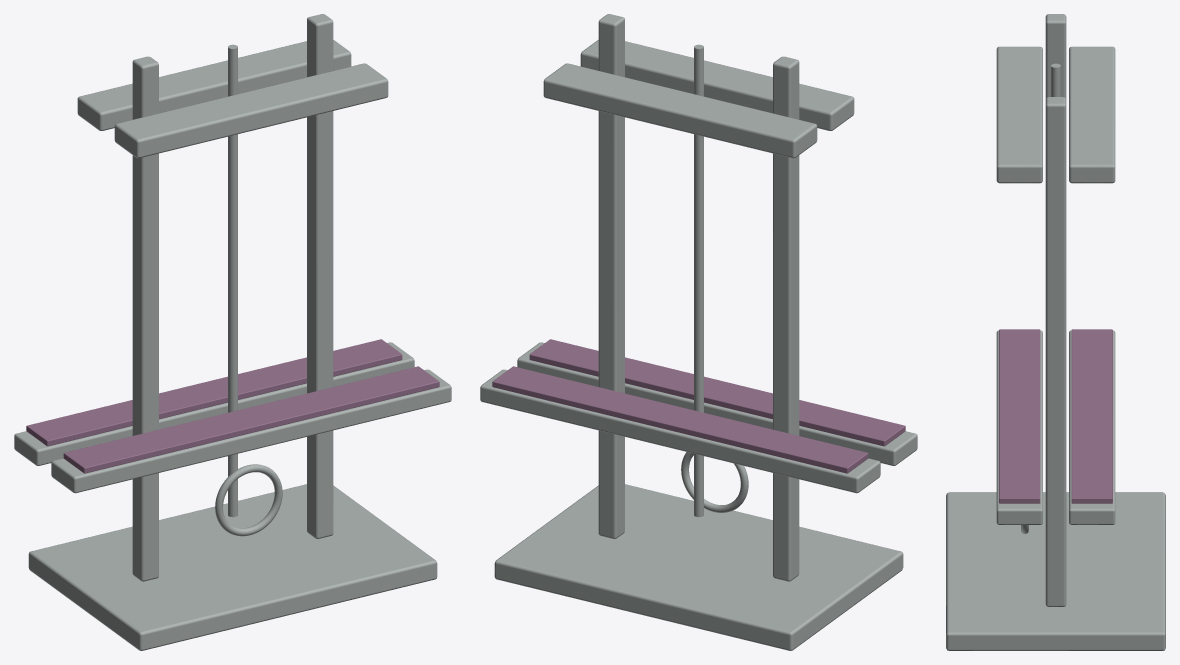
The model's file is museum-conservation-and-art-restoration-museum-conserv-62bc085f__31885.glb.
3 views of the same model, side by side, from view 1: azimuth 30°, elevation 25°; view 2: azimuth 150°, elevation 25°; view 3: azimuth 270°, elevation 25° (orthographic). The views are drawn at different scales.
Parts seen in each view (by area): view 1: museum-conservation-and-art-restoration-double-sided-examina (×2); view 2: museum-conservation-and-art-restoration-double-sided-examina (×2); view 3: museum-conservation-and-art-restoration-double-sided-examina (×2).
Boxes of the visible parts, <box> form: museum-conservation-and-art-restoration-double-sided-examina (×2): <box>14,14,451,650</box>; museum-conservation-and-art-restoration-double-sided-examina (×2): <box>480,14,917,650</box>; museum-conservation-and-art-restoration-double-sided-examina (×2): <box>946,14,1165,650</box>.
Bounding box in the file's own units: 1.65 × 2.23 × 0.85.
